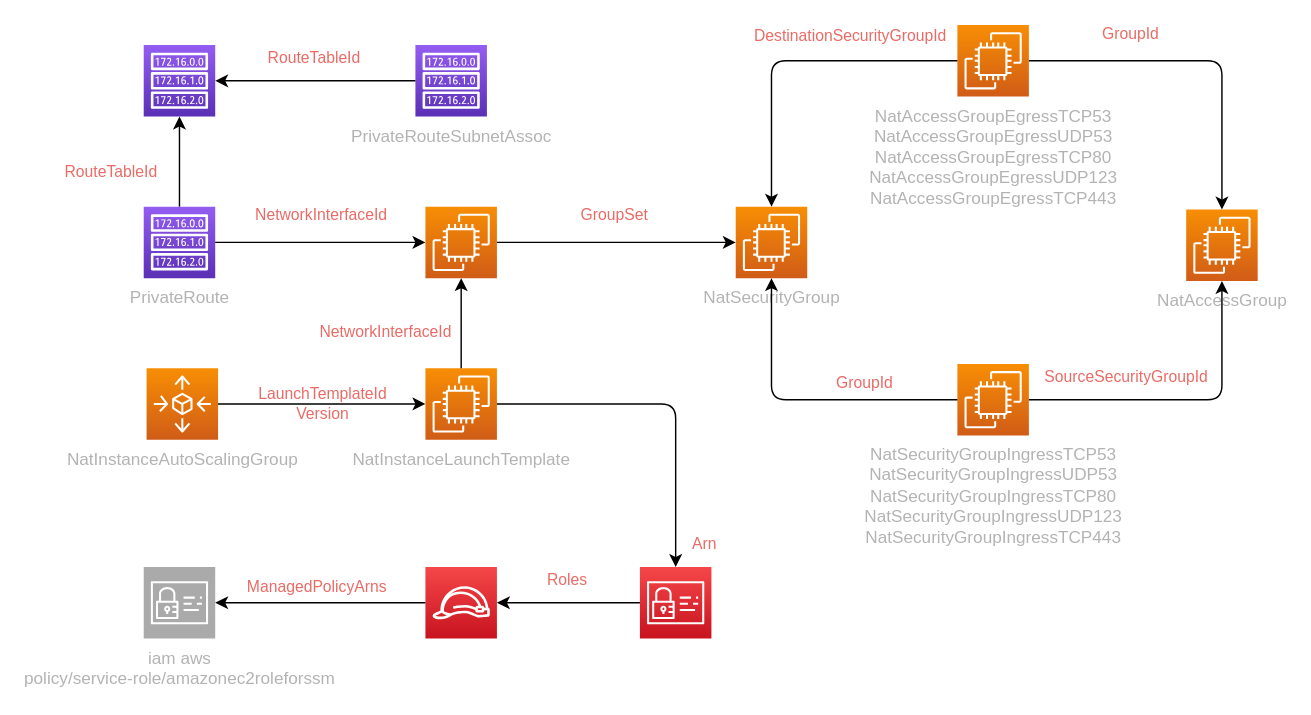
Some shapes in this 1311 by 715 pixel diagram are drawn without their labels. The shapes that lost their labels are listed below. From the top down, each one's centre as x and y in pixels, then its label:
the point at 178,80: PrivateRouteTable
the point at 460,241: NatNetworkInterface
the point at 460,602: NatInstanceRole
the point at 674,602: NatInstanceProfile
